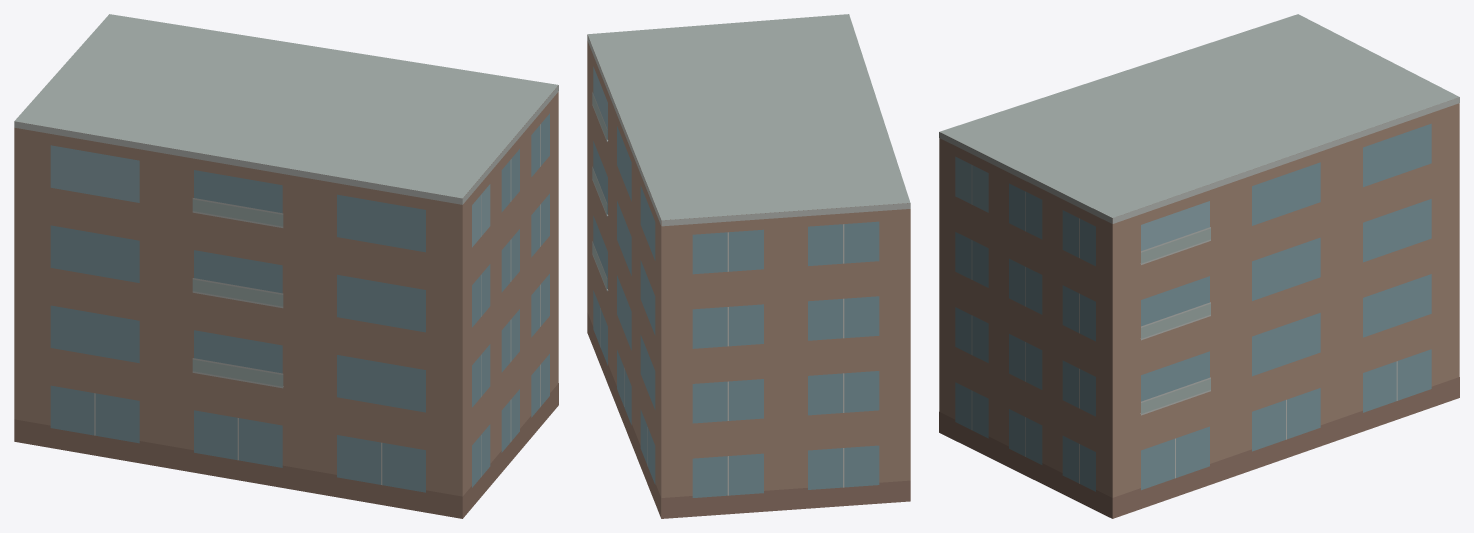
The model's file is survey-upis-32589084.glb.
3 views of the same model, side by side, from view 1: azimuth 30°, elevation 25°; view 2: azimuth 150°, elevation 25°; view 3: azimuth 270°, elevation 25° (orthographic). The views are drawn at different scales.
Parts seen in each view (by area): view 1: survey-upis-32589084.tmp; view 2: survey-upis-32589084.tmp; view 3: survey-upis-32589084.tmp.
Part boxes in pixels (x1,y1,x2,y2): survey-upis-32589084.tmp: [14, 14, 558, 518]; survey-upis-32589084.tmp: [587, 14, 910, 518]; survey-upis-32589084.tmp: [939, 14, 1459, 518].
Size of the model in its own units: 17.77 by 12.2 by 19.15.
